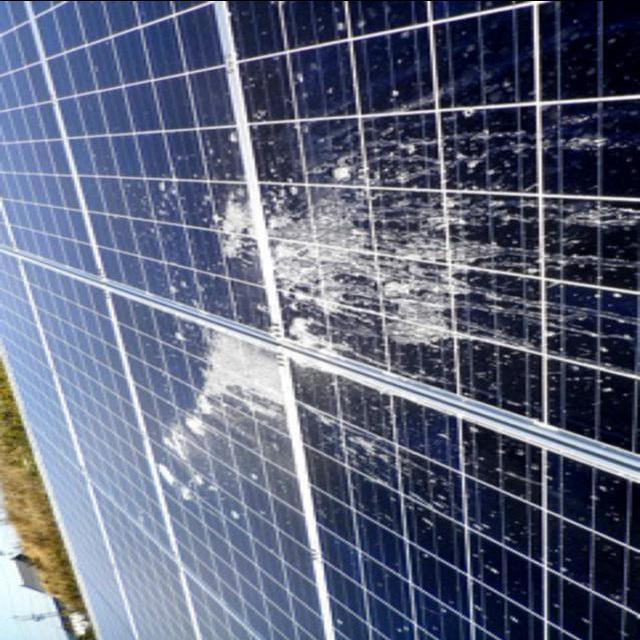soiled: (149, 0, 640, 619)
